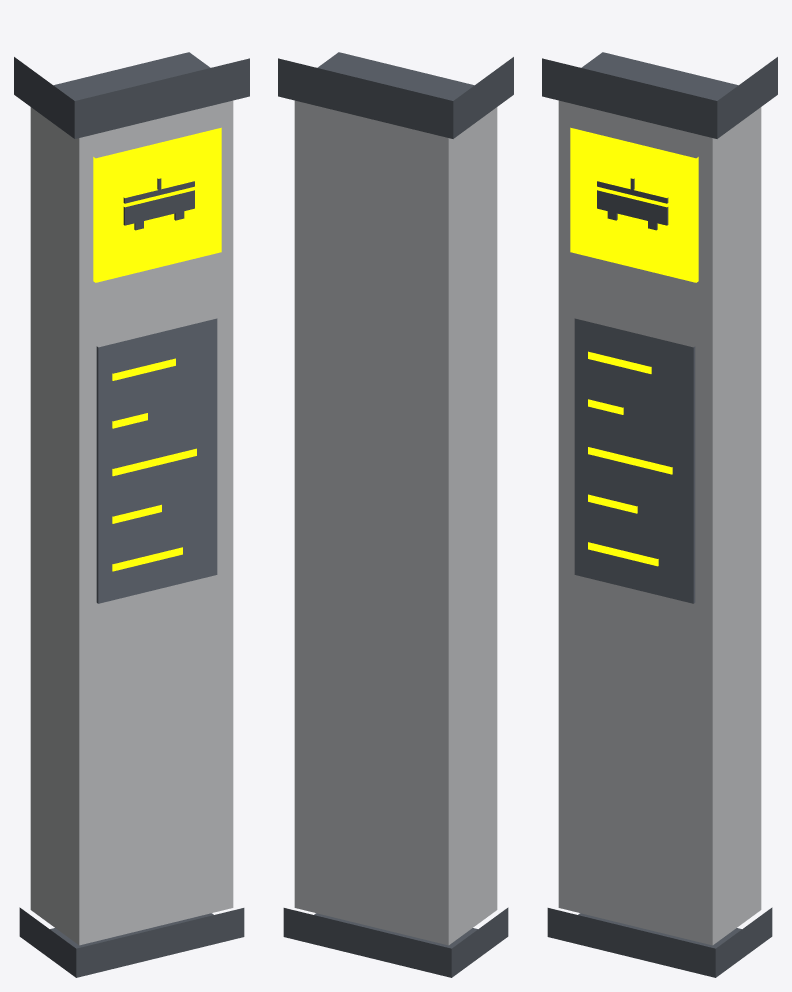
File: ext_stop_totem_04.glb
The picture shows the model from 3 angles, left to right: view 1: azimuth 30°, elevation 25°; view 2: azimuth 150°, elevation 25°; view 3: azimuth 330°, elevation 25°; orthographic projection.
Visible parts, largest first — view 1: Body, Timetable_Plate, Roundel_Plate, Cap, Plinth, Timetable_Bars, Tram_Glyph; view 2: Body, Cap, Plinth; view 3: Body, Timetable_Plate, Roundel_Plate, Cap, Plinth, Timetable_Bars, Tram_Glyph.
Part boxes in pixels (x1,y1,x2,y2): Body: (30, 100, 233, 945); Timetable_Plate: (96, 318, 217, 603); Roundel_Plate: (93, 127, 221, 282); Cap: (14, 52, 249, 138); Plinth: (19, 907, 244, 977); Timetable_Bars: (112, 358, 196, 571); Tram_Glyph: (123, 178, 194, 230); Body: (294, 100, 497, 945); Cap: (278, 52, 513, 138); Plinth: (283, 907, 508, 977); Body: (558, 100, 761, 945); Timetable_Plate: (574, 318, 695, 603); Roundel_Plate: (570, 127, 698, 282); Cap: (542, 52, 777, 138); Plinth: (547, 907, 772, 977); Timetable_Bars: (588, 351, 672, 566); Tram_Glyph: (597, 178, 668, 230).
Bounding box in the file's own units: 0.5 × 2.4 × 0.3.
